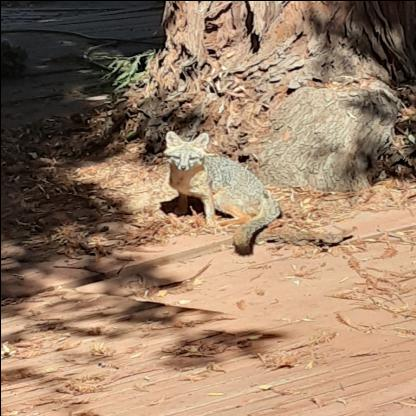zorro: (154, 127, 286, 257)
